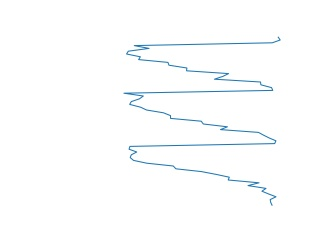distributaryMouthBar: (124, 38, 284, 206)
